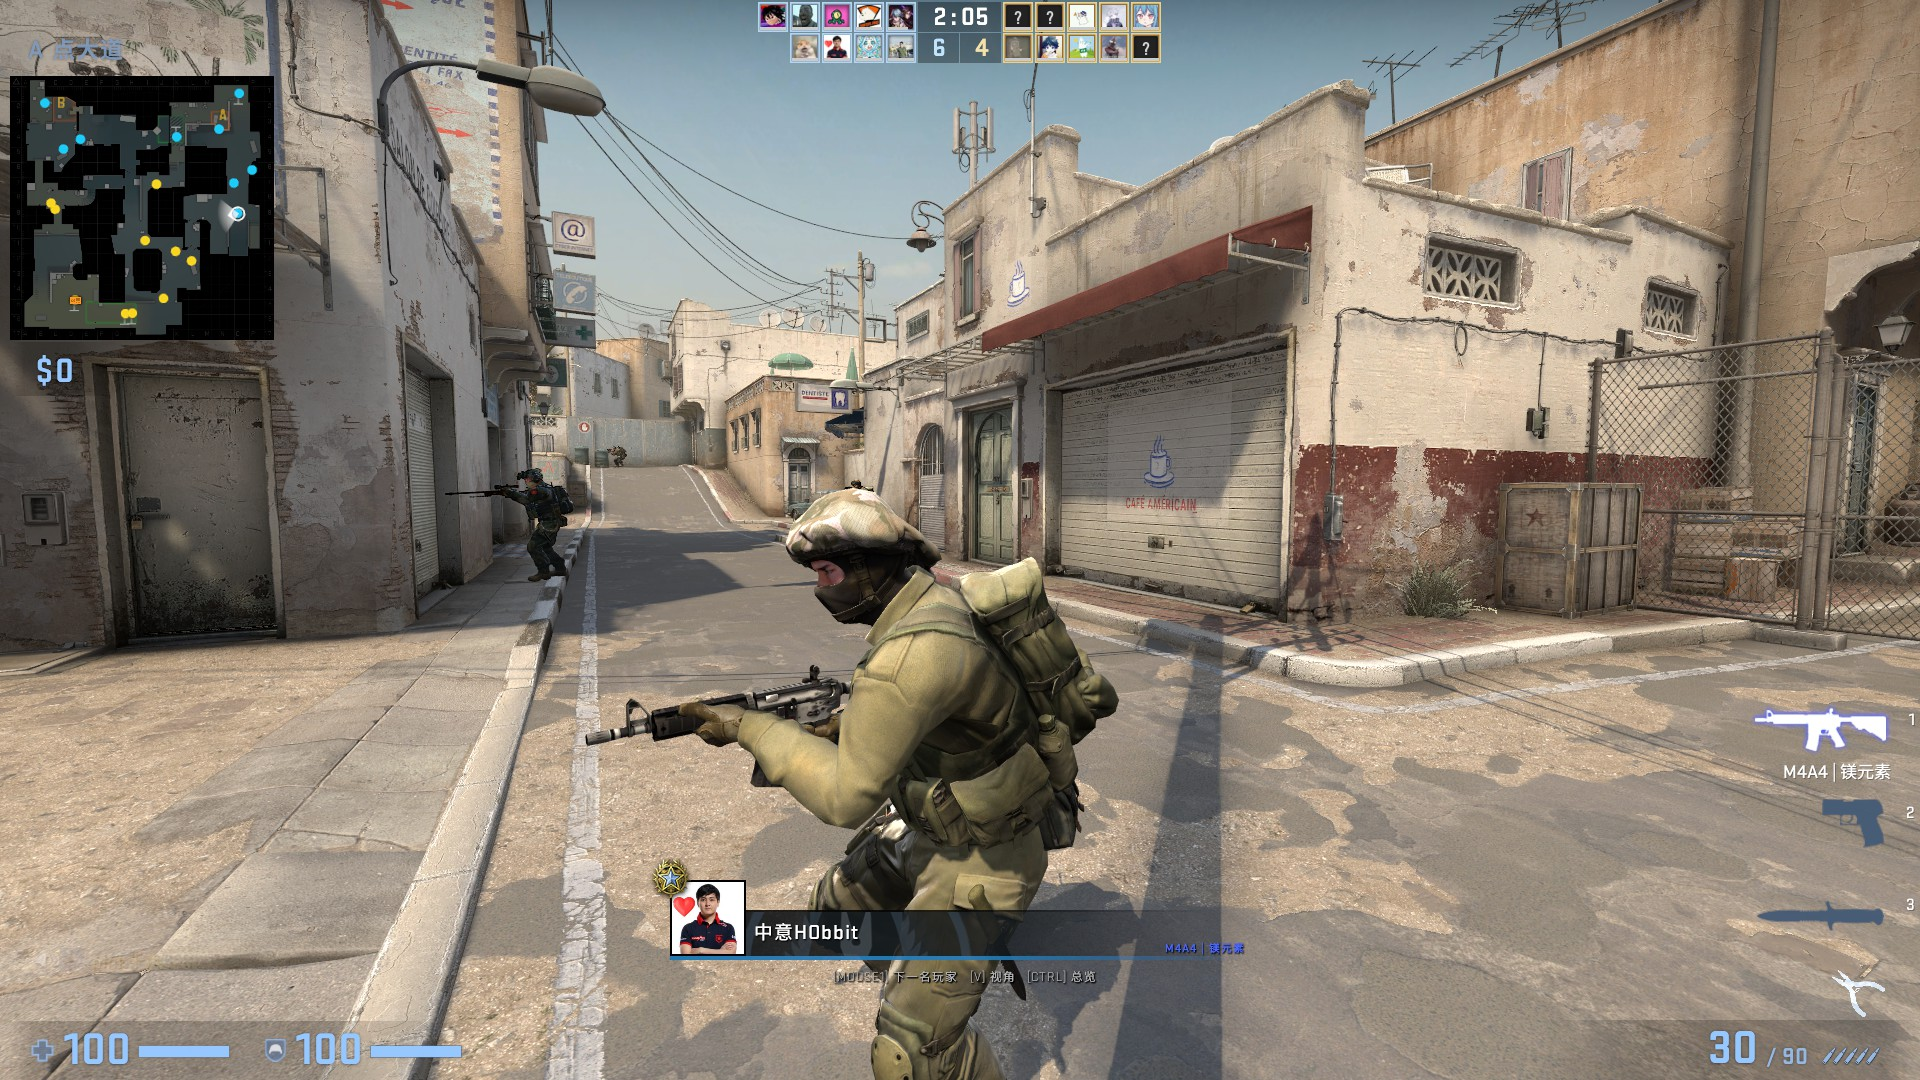head: (784, 490, 915, 615), (515, 467, 546, 486), (850, 477, 862, 489), (612, 445, 617, 451)
